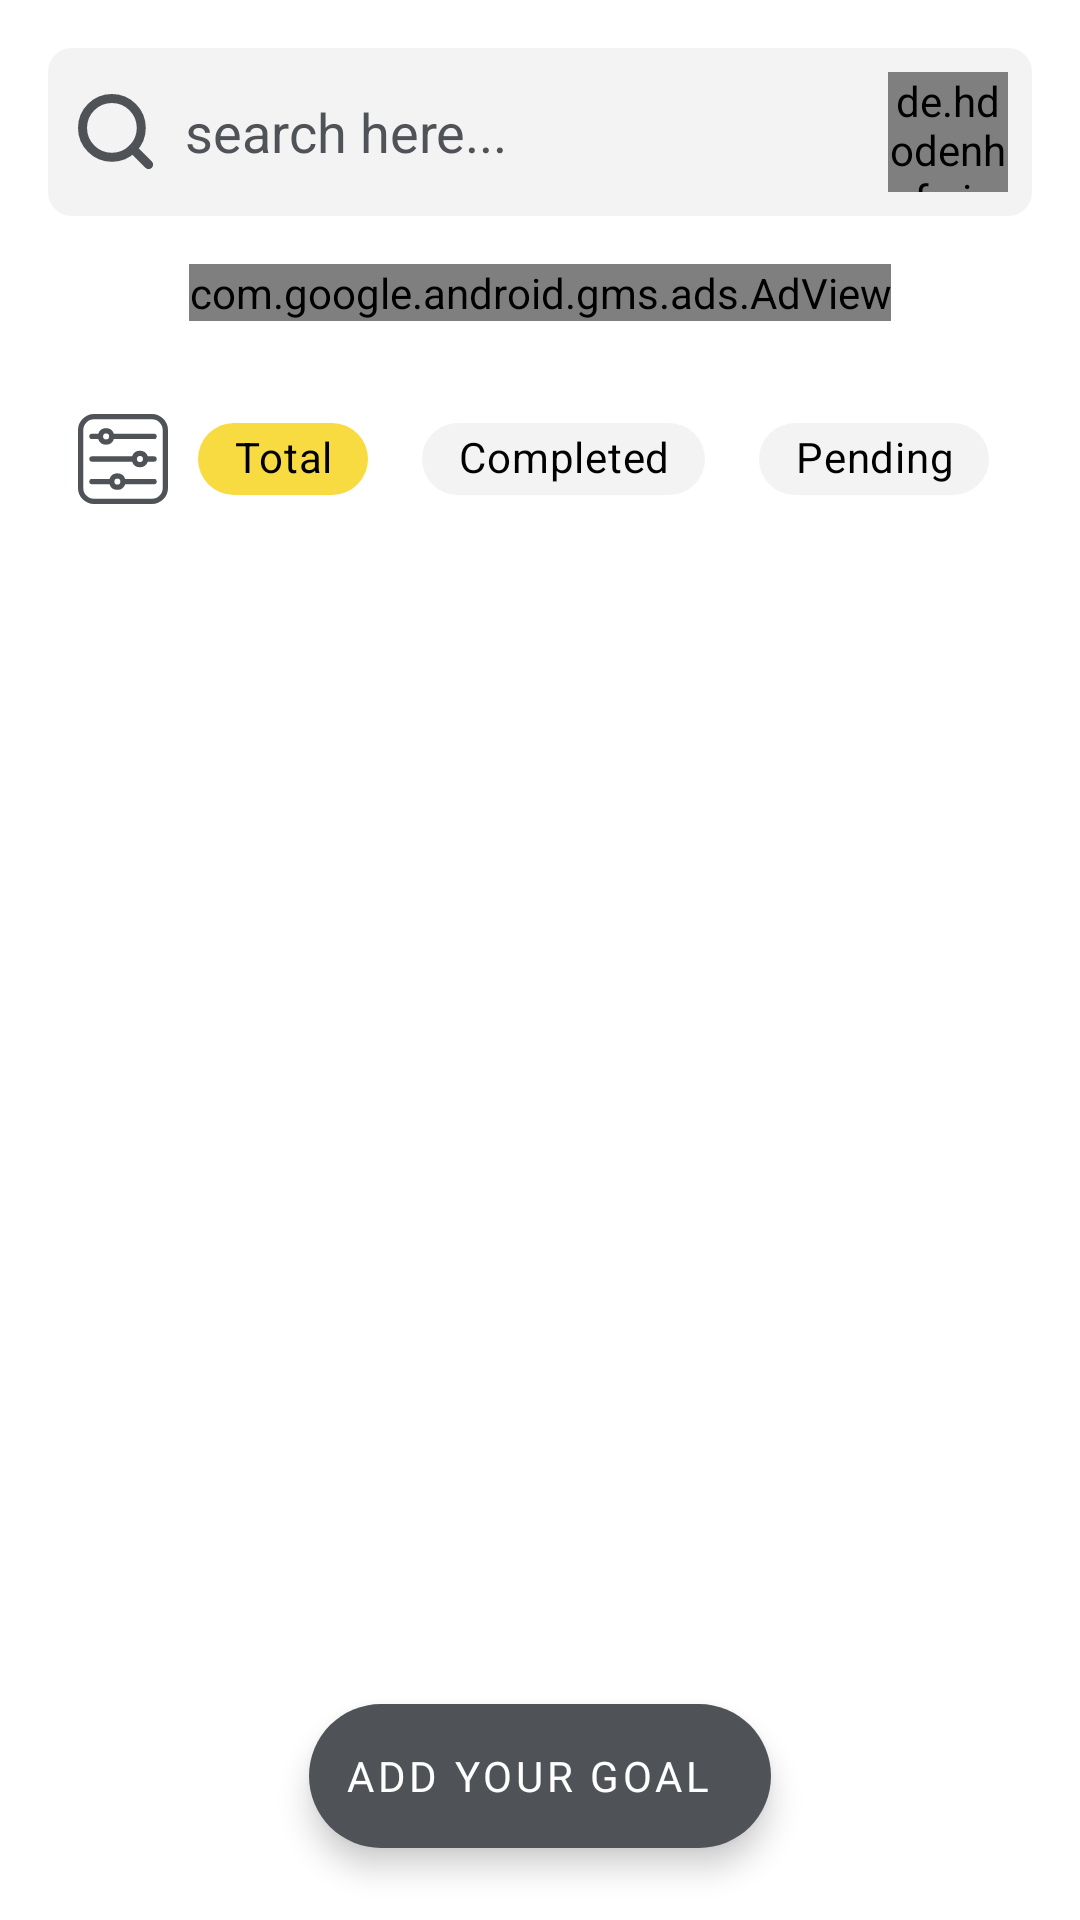

Icons on this 1080 x 1920 Android screen, each with its box as (x1, y1, x2, y2):
filter: (78, 414, 168, 504)
